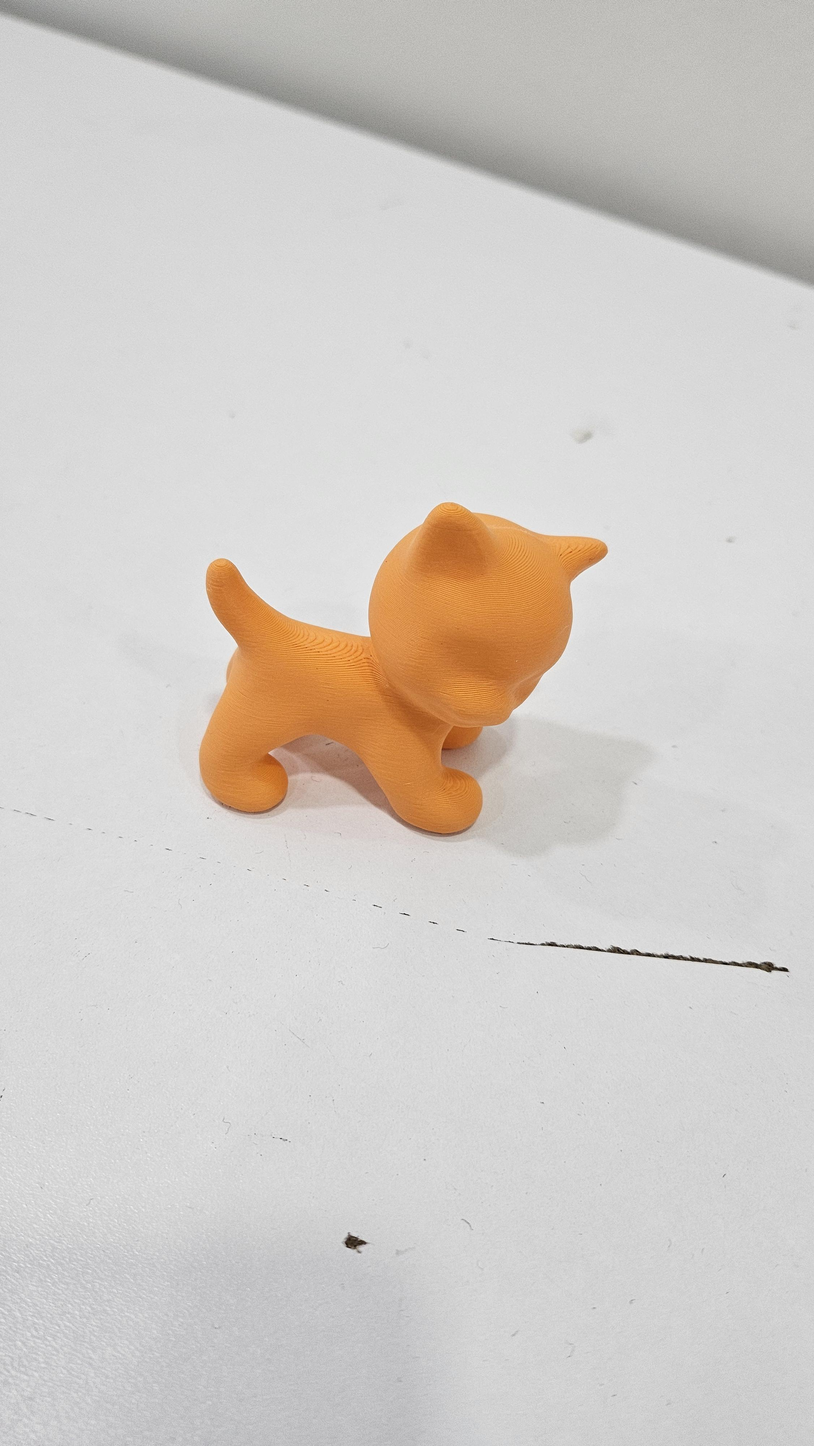cat: (193, 497, 611, 842)
